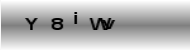8: (50, 17, 65, 31)
W: (89, 17, 111, 30)
Y: (24, 16, 40, 31)
i: (73, 10, 79, 26)
v: (103, 18, 114, 29)
